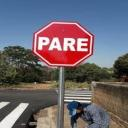Pare: (32, 20, 94, 68)
